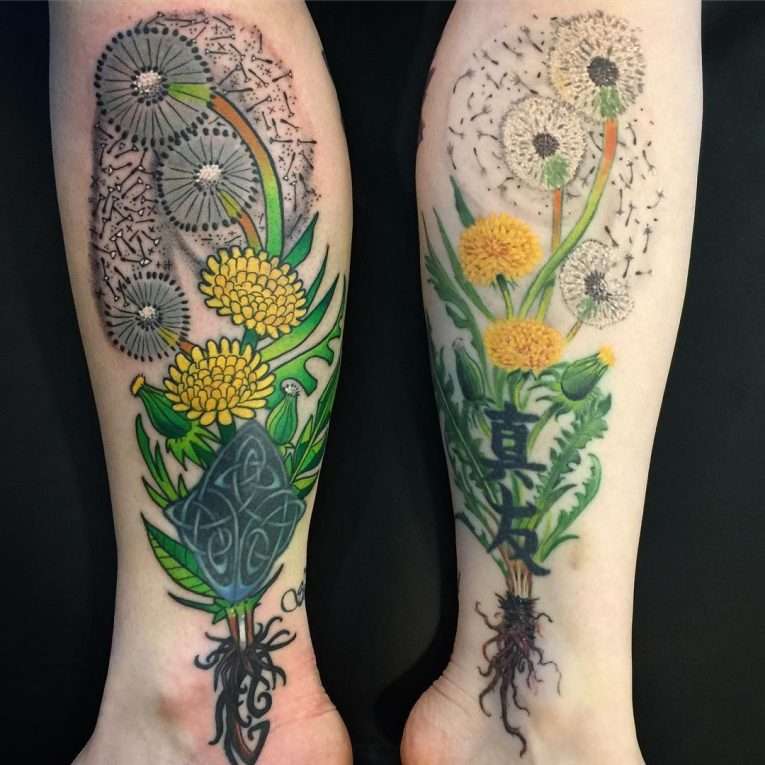dandelion: (197, 252, 315, 332), (173, 351, 277, 421), (462, 221, 543, 293), (482, 318, 570, 368)
